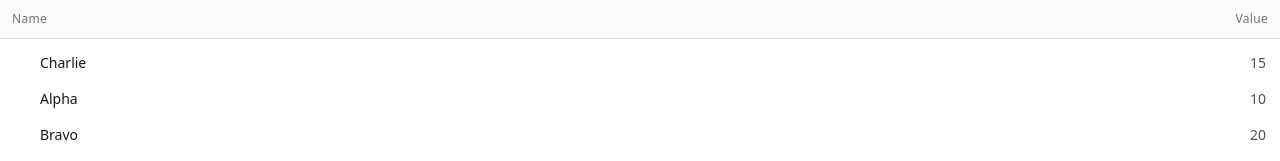
Test: TreeView › renders a header arrow and cycles column sort none -> asc -> desc -> none for a flat sibling group
Click the button with test id "tree-col-value" at [1232, 19], box [1192, 8, 1272, 30]
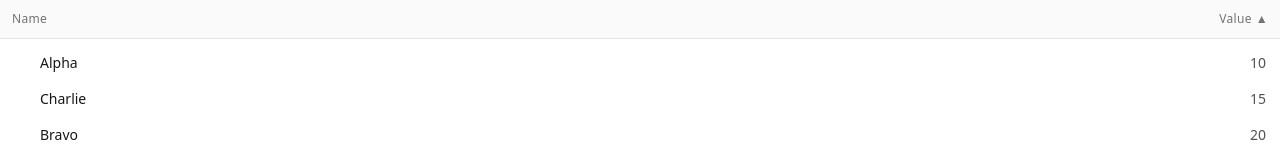
Result: the text "▲" is shown at [1256, 10, 1268, 28]
Click the button with test id "tree-col-value" at [1232, 19], box [1192, 8, 1272, 30]
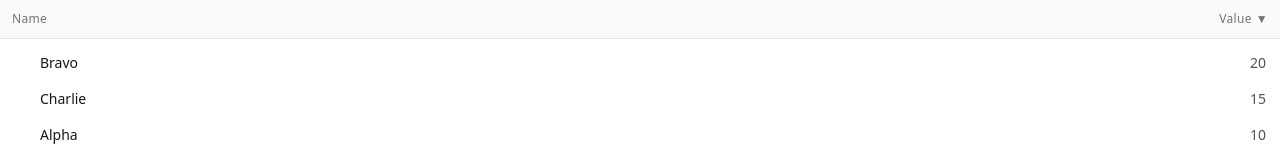
Result: the text "▼" is shown at [1256, 10, 1268, 28]
Click the button with test id "tree-col-value" at [1232, 19], box [1192, 8, 1272, 30]
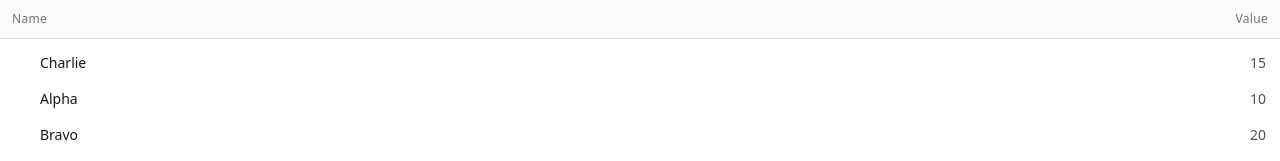
Expected: the text "▲" is not shown
Result: the text "▼" is gone
